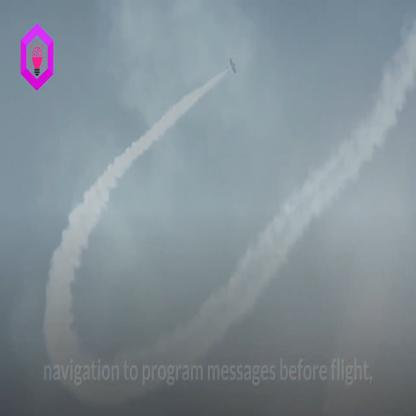plane: (224, 51, 243, 85)
